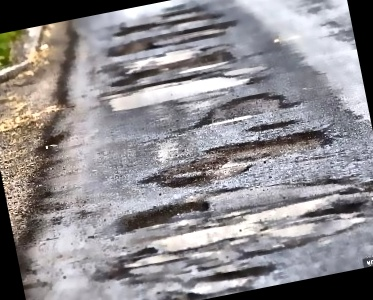pothole: (133, 123, 338, 199), (106, 16, 242, 59), (188, 83, 306, 132), (108, 47, 239, 90), (110, 195, 214, 238), (115, 7, 227, 40), (244, 116, 301, 135)
